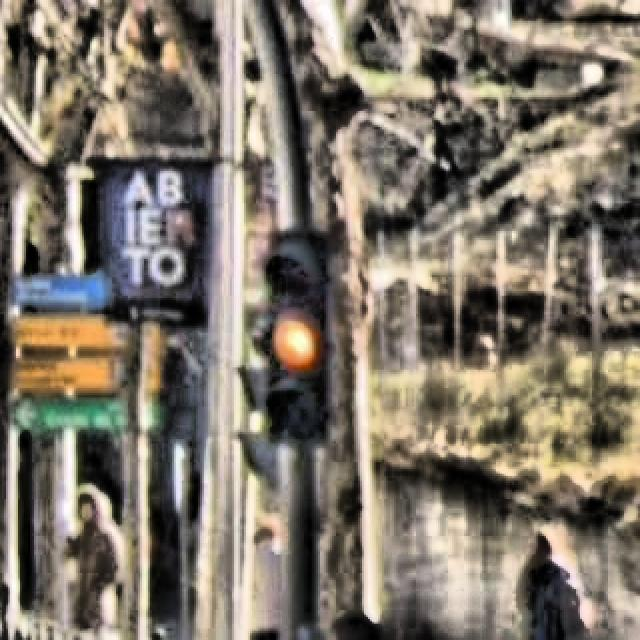yellow: (267, 234, 327, 438)
